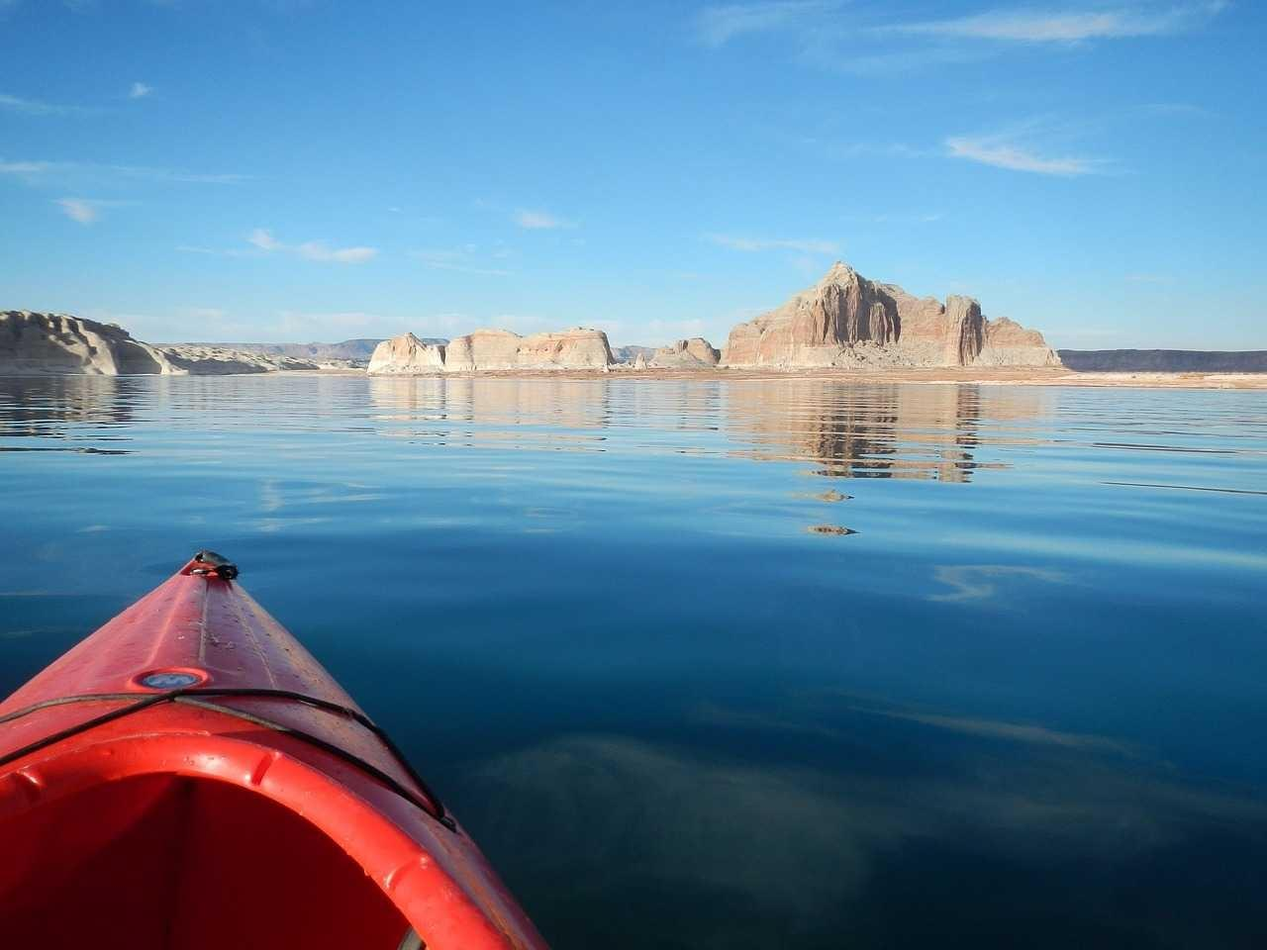kayak: (3, 550, 548, 947)
